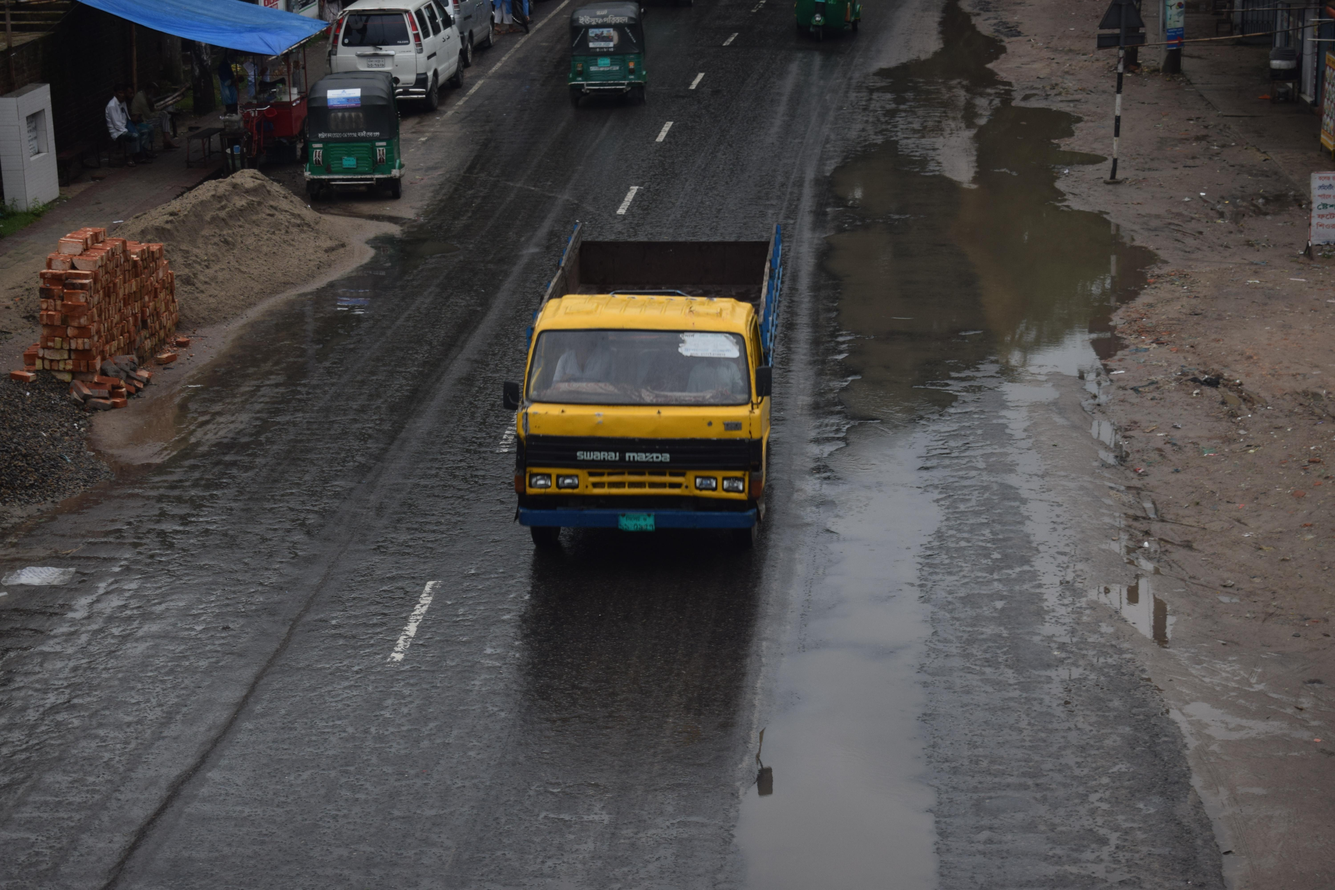Car: (306, 0, 492, 122)
Truck: (452, 199, 839, 597)
